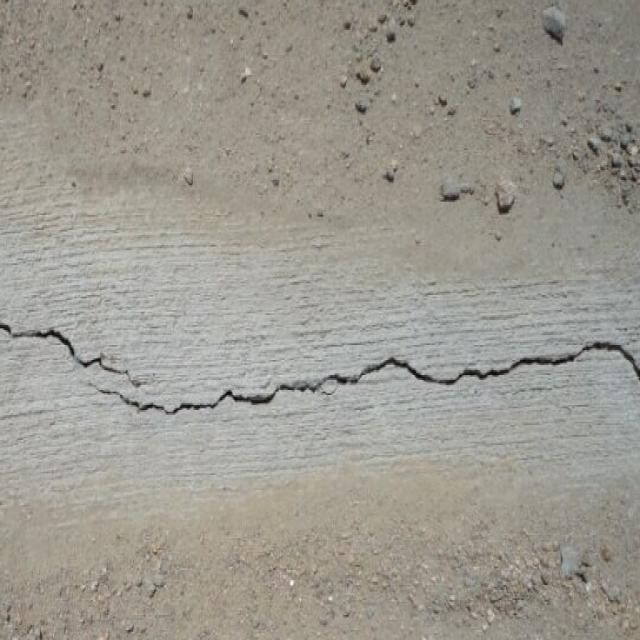Transverse: (0, 300, 640, 436)
